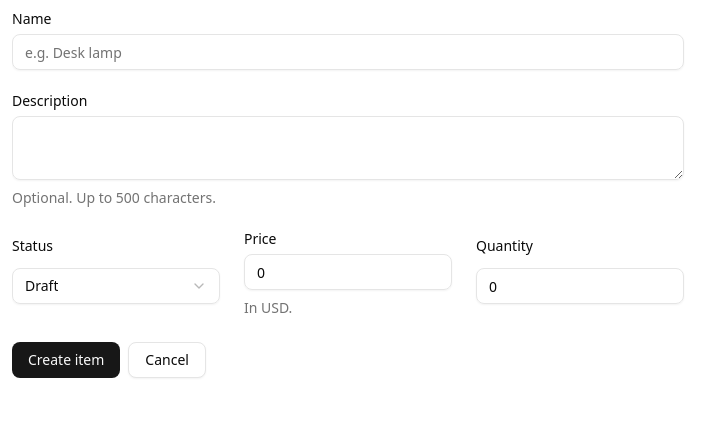
ItemForm › shows translated validation errors and does not submit
Click the button "Create item".
click(66, 360)  # box [12, 342, 120, 378]
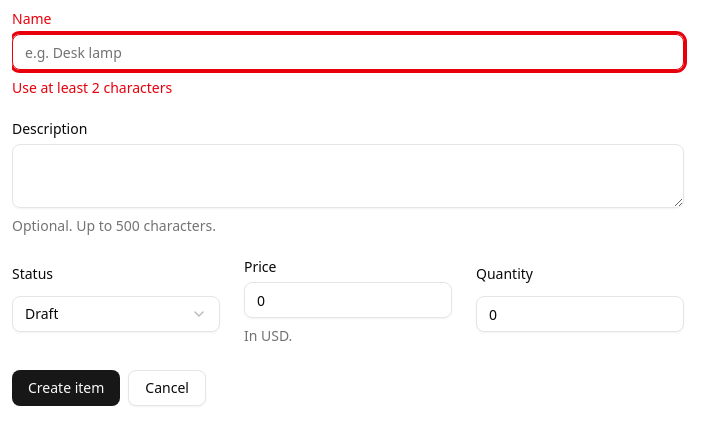
Check: the text "Use at least 2 characters" is shown, box [12, 78, 172, 97]
